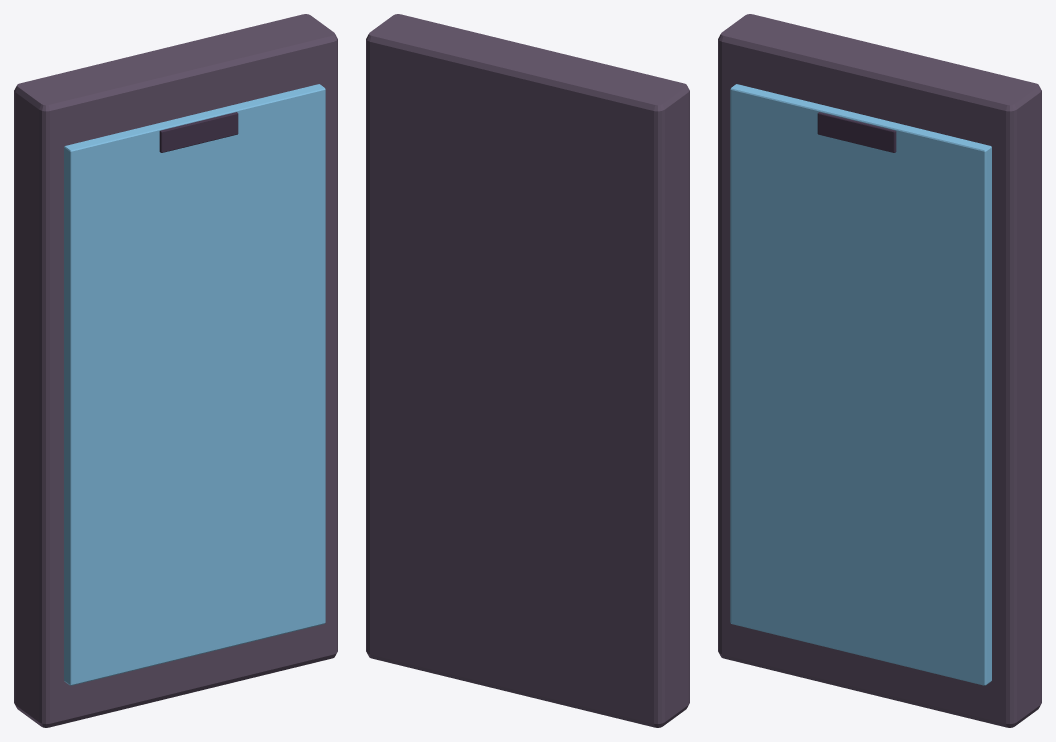
Rendered from smartphone_blank.glb.
The picture shows the model from 3 angles, left to right: view 1: azimuth 30°, elevation 25°; view 2: azimuth 150°, elevation 25°; view 3: azimuth 330°, elevation 25°; orthographic projection.
Parts seen in each view (by area): view 1: display, case, model; view 2: case; view 3: display, case, model.
Boxes of the visible parts, x1=… form: display: x1=64, y1=84, x2=325, y2=685; case: x1=14, y1=14, x2=337, y2=727; model: x1=159, y1=112, x2=238, y2=152; case: x1=366, y1=14, x2=689, y2=727; display: x1=730, y1=84, x2=991, y2=685; case: x1=718, y1=14, x2=1041, y2=727; model: x1=817, y1=112, x2=896, y2=152.
Size of the model in its own units: 0.3 by 0.6 by 0.07.
